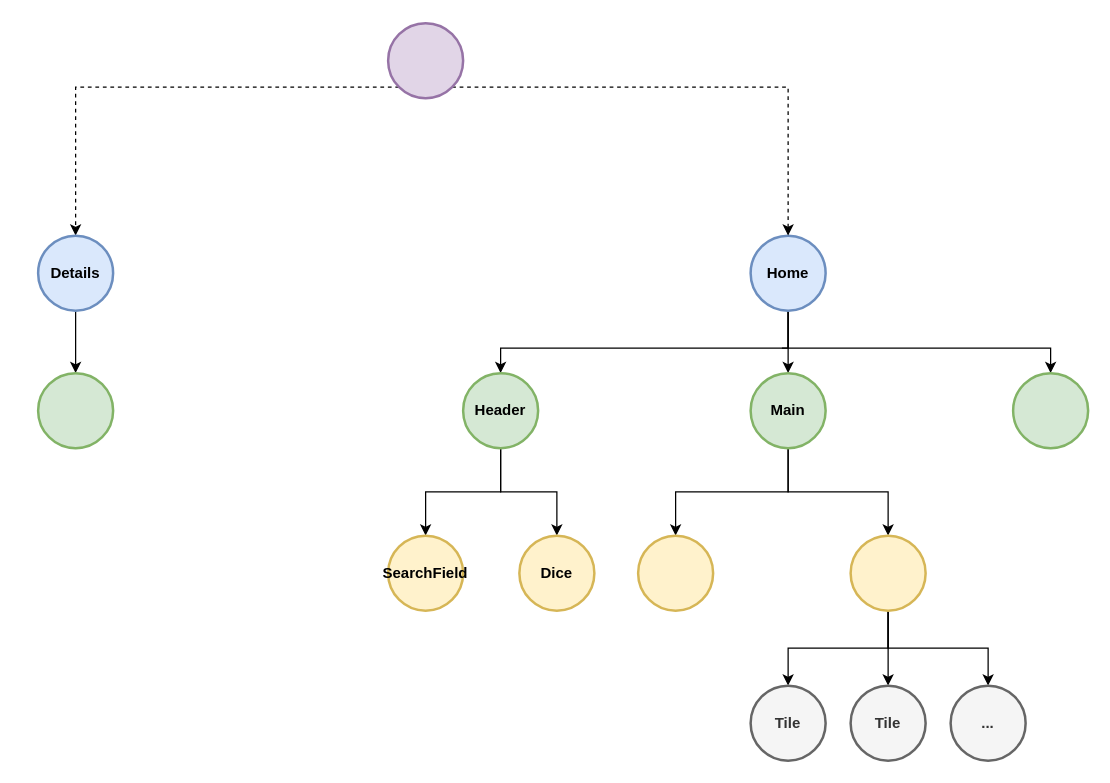
Image size: 1110x783. Some labels were removed from this diagram. Here are the shapes that lost their labels. From the top down, the centre of each, then its label:
At [425,60]: "App".
At [75,410]: "CocktailDetails".
At [1050,410]: "Footer".
At [675,572]: "FilterField".
At [887,572]: "TileMap".
